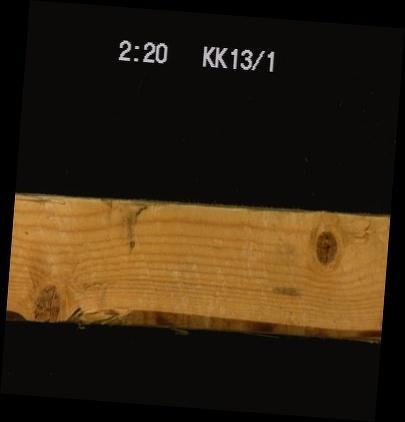sound_knot: (312, 226, 337, 266)
wave: (6, 296, 380, 335)
